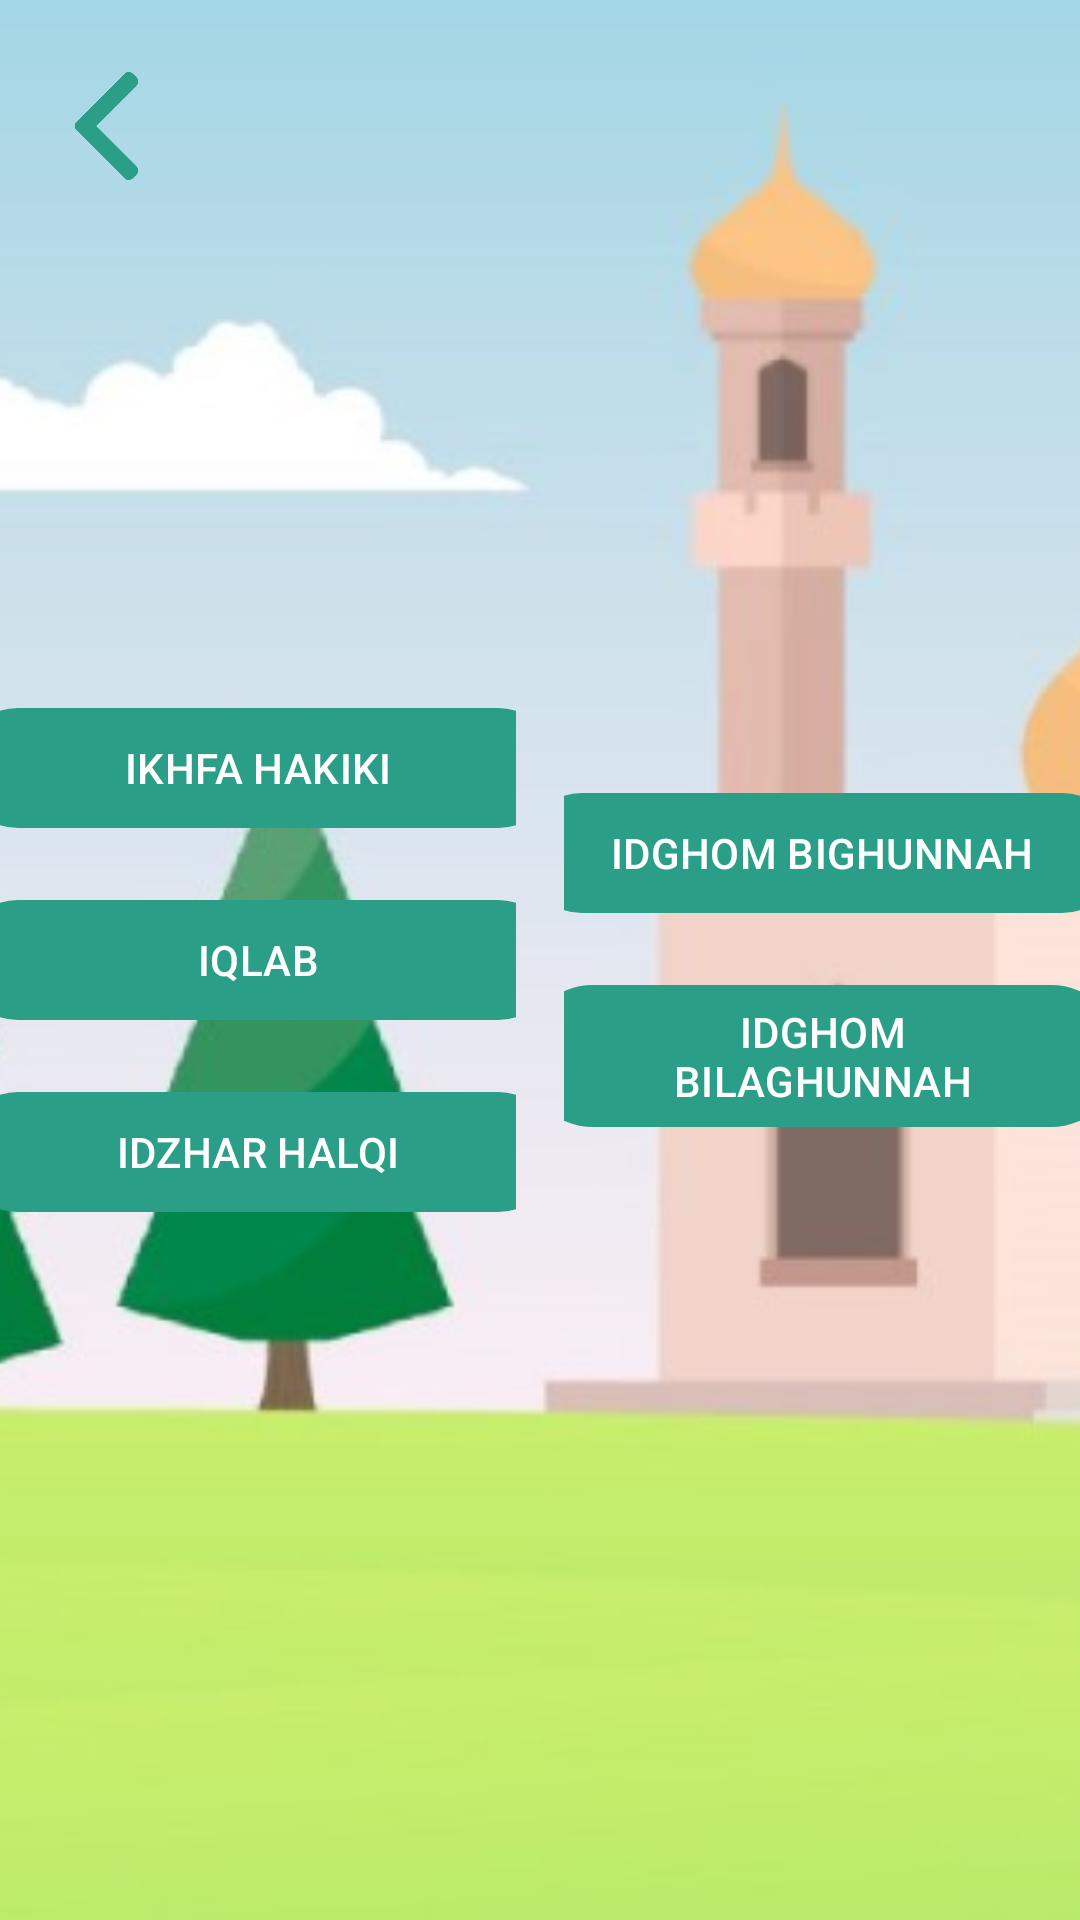

Icon click points for this 1080 × 1920 phone screenshot, format [x,y]:
Kembali: [106,126]
